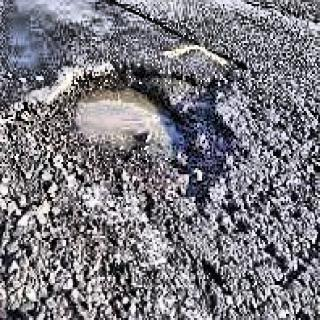alligator-crack: (2, 196, 320, 320), (242, 82, 318, 195)
crack: (201, 45, 249, 70), (155, 23, 202, 45), (108, 0, 155, 21)
pothole: (48, 67, 240, 194)
